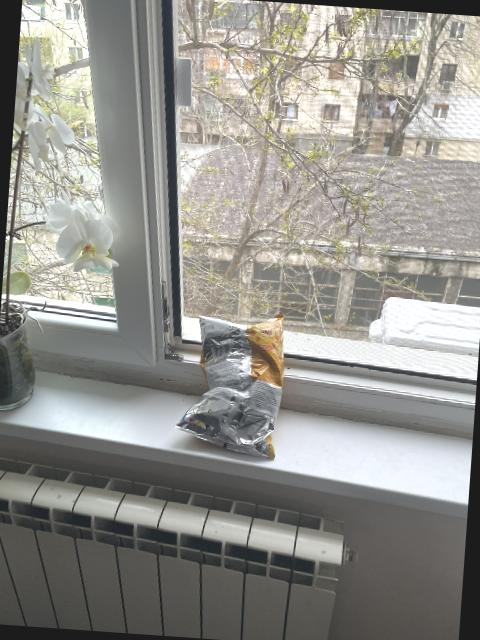Chio Hula Hoops Cheese 70g: (174, 308, 290, 459)
